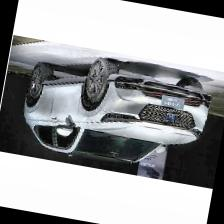NON-EV: (16, 47, 216, 182)
